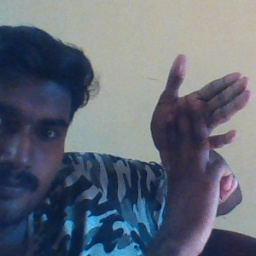M: (149, 52, 254, 202)
